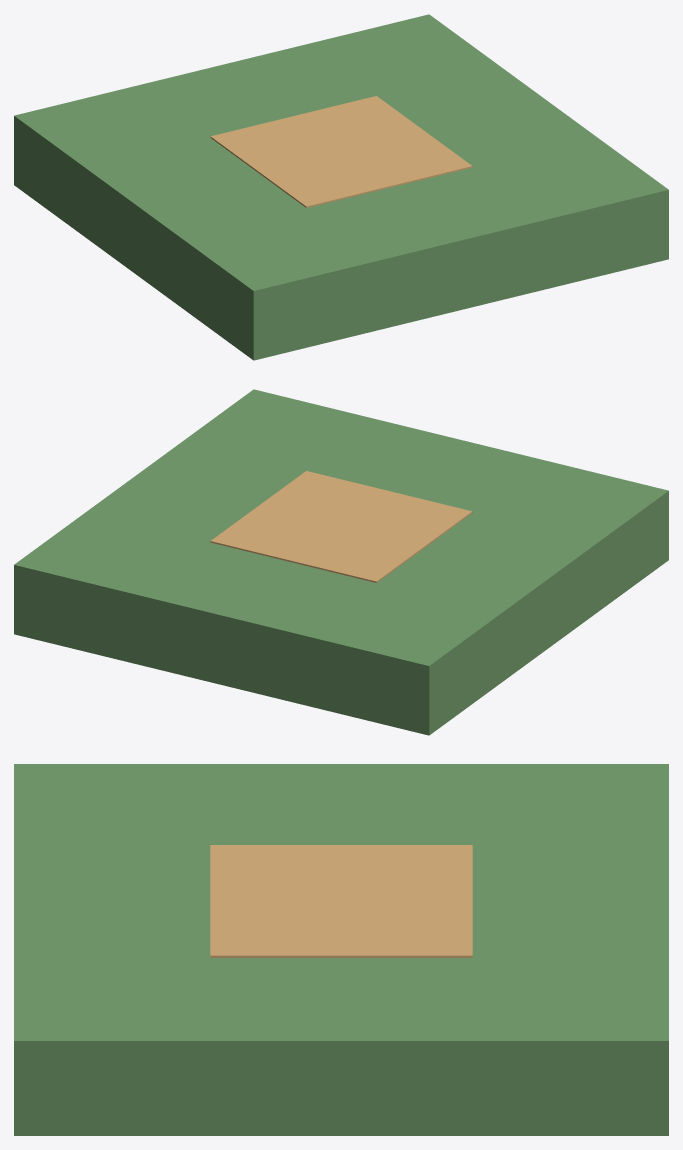
Rendered from board.glb.
The picture shows the model from 3 angles, top to bottom: view 1: azimuth 30°, elevation 25°; view 2: azimuth 150°, elevation 25°; view 3: azimuth 270°, elevation 25°; orthographic projection. The views are drawn at different scales.
Parts seen in each view (by area): view 1: Substrate_Layer_0_Z0, Substrate_Layer_1_Z0; view 2: Substrate_Layer_0_Z0, Substrate_Layer_1_Z0; view 3: Substrate_Layer_0_Z0, Substrate_Layer_1_Z0.
Boxes of the visible parts, bbox=[...] form: Substrate_Layer_0_Z0: bbox=[14, 14, 668, 360]; Substrate_Layer_1_Z0: bbox=[210, 96, 472, 207]; Substrate_Layer_0_Z0: bbox=[14, 389, 668, 735]; Substrate_Layer_1_Z0: bbox=[210, 471, 472, 582]; Substrate_Layer_0_Z0: bbox=[14, 764, 668, 1135]; Substrate_Layer_1_Z0: bbox=[210, 845, 472, 957].
Bounding box in the file's own units: 0.01 × 0.00167 × 0.01.
